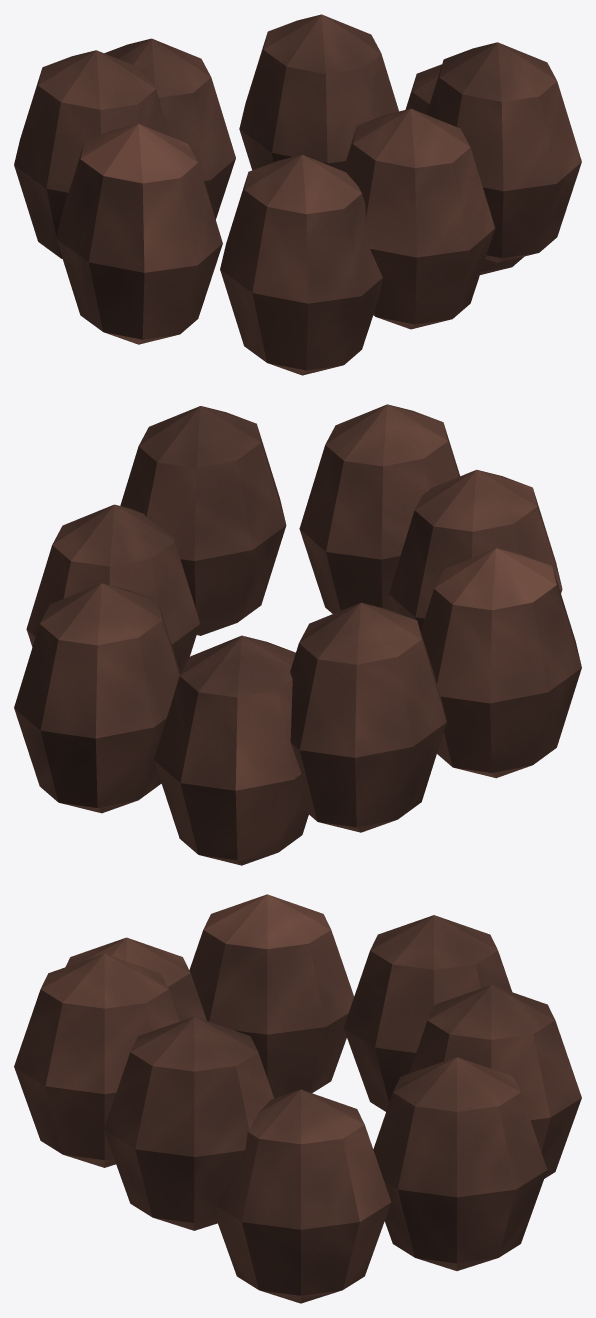
Rendered from Egg_Cluster.glb.
3 renders of one model, top to bottom at view 1: azimuth 30°, elevation 25°; view 2: azimuth 150°, elevation 25°; view 3: azimuth 270°, elevation 25°, orthographic. The views are drawn at different scales.
Parts seen in each view (by area): view 1: Egg_Cluster; view 2: Egg_Cluster; view 3: Egg_Cluster.
Boxes of the visible parts, left/top/right/bottom form: Egg_Cluster: left=14, top=14, right=581, bottom=375; Egg_Cluster: left=14, top=404, right=581, bottom=865; Egg_Cluster: left=14, top=894, right=581, bottom=1303.
Bounding box in the file's own units: 0.8284 × 0.46 × 0.8648.
2 materials, 2 textured.
